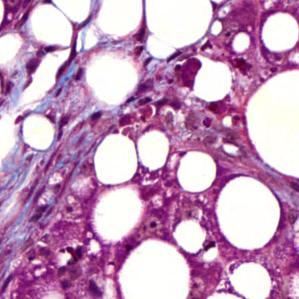steatosis: (217, 172, 285, 251), (92, 187, 146, 241), (90, 135, 139, 182), (179, 149, 217, 194), (23, 113, 58, 150)
